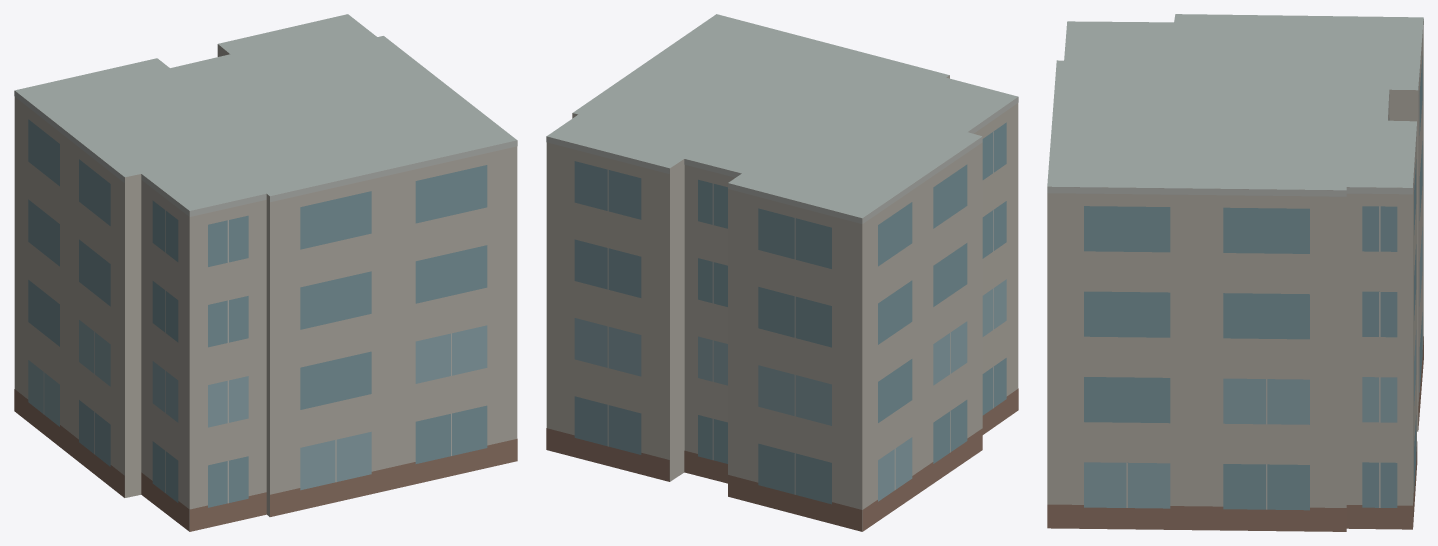
The model's file is survey-upis-32654387.glb.
3 views of the same model, side by side, from view 1: azimuth 30°, elevation 25°; view 2: azimuth 150°, elevation 25°; view 3: azimuth 270°, elevation 25° (orthographic). The views are drawn at different scales.
Parts seen in each view (by area): view 1: survey-upis-32654387.tmp; view 2: survey-upis-32654387.tmp; view 3: survey-upis-32654387.tmp.
Part boxes in pixels (<box>): survey-upis-32654387.tmp: <box>14,14,517,531</box>; survey-upis-32654387.tmp: <box>546,14,1018,531</box>; survey-upis-32654387.tmp: <box>1047,14,1423,531</box>.
Bounding box in the file's own units: 14.4 × 13 × 13.
